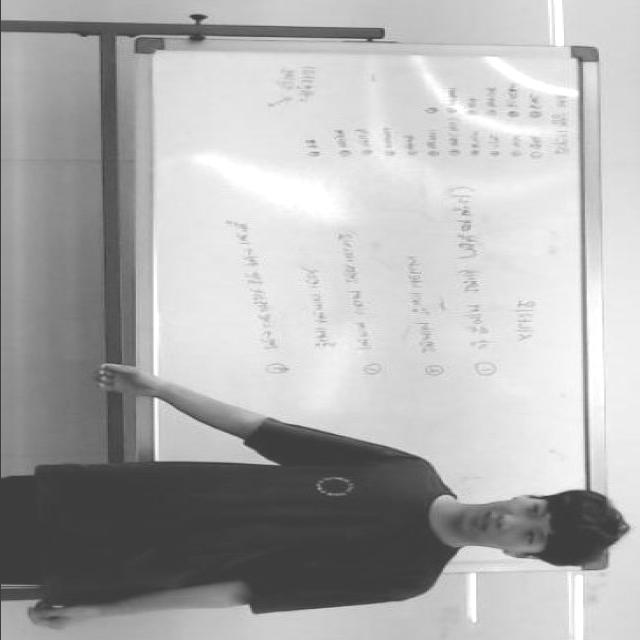Instructor: (36, 464, 616, 598)
White-board: (138, 44, 602, 571)
